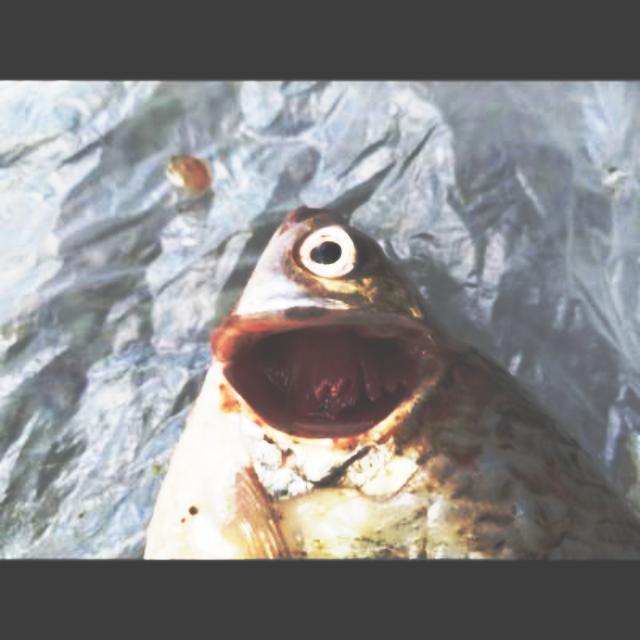Flavobacterium -Bacterial Gill Disease-: (144, 204, 640, 559), (146, 208, 638, 555)
